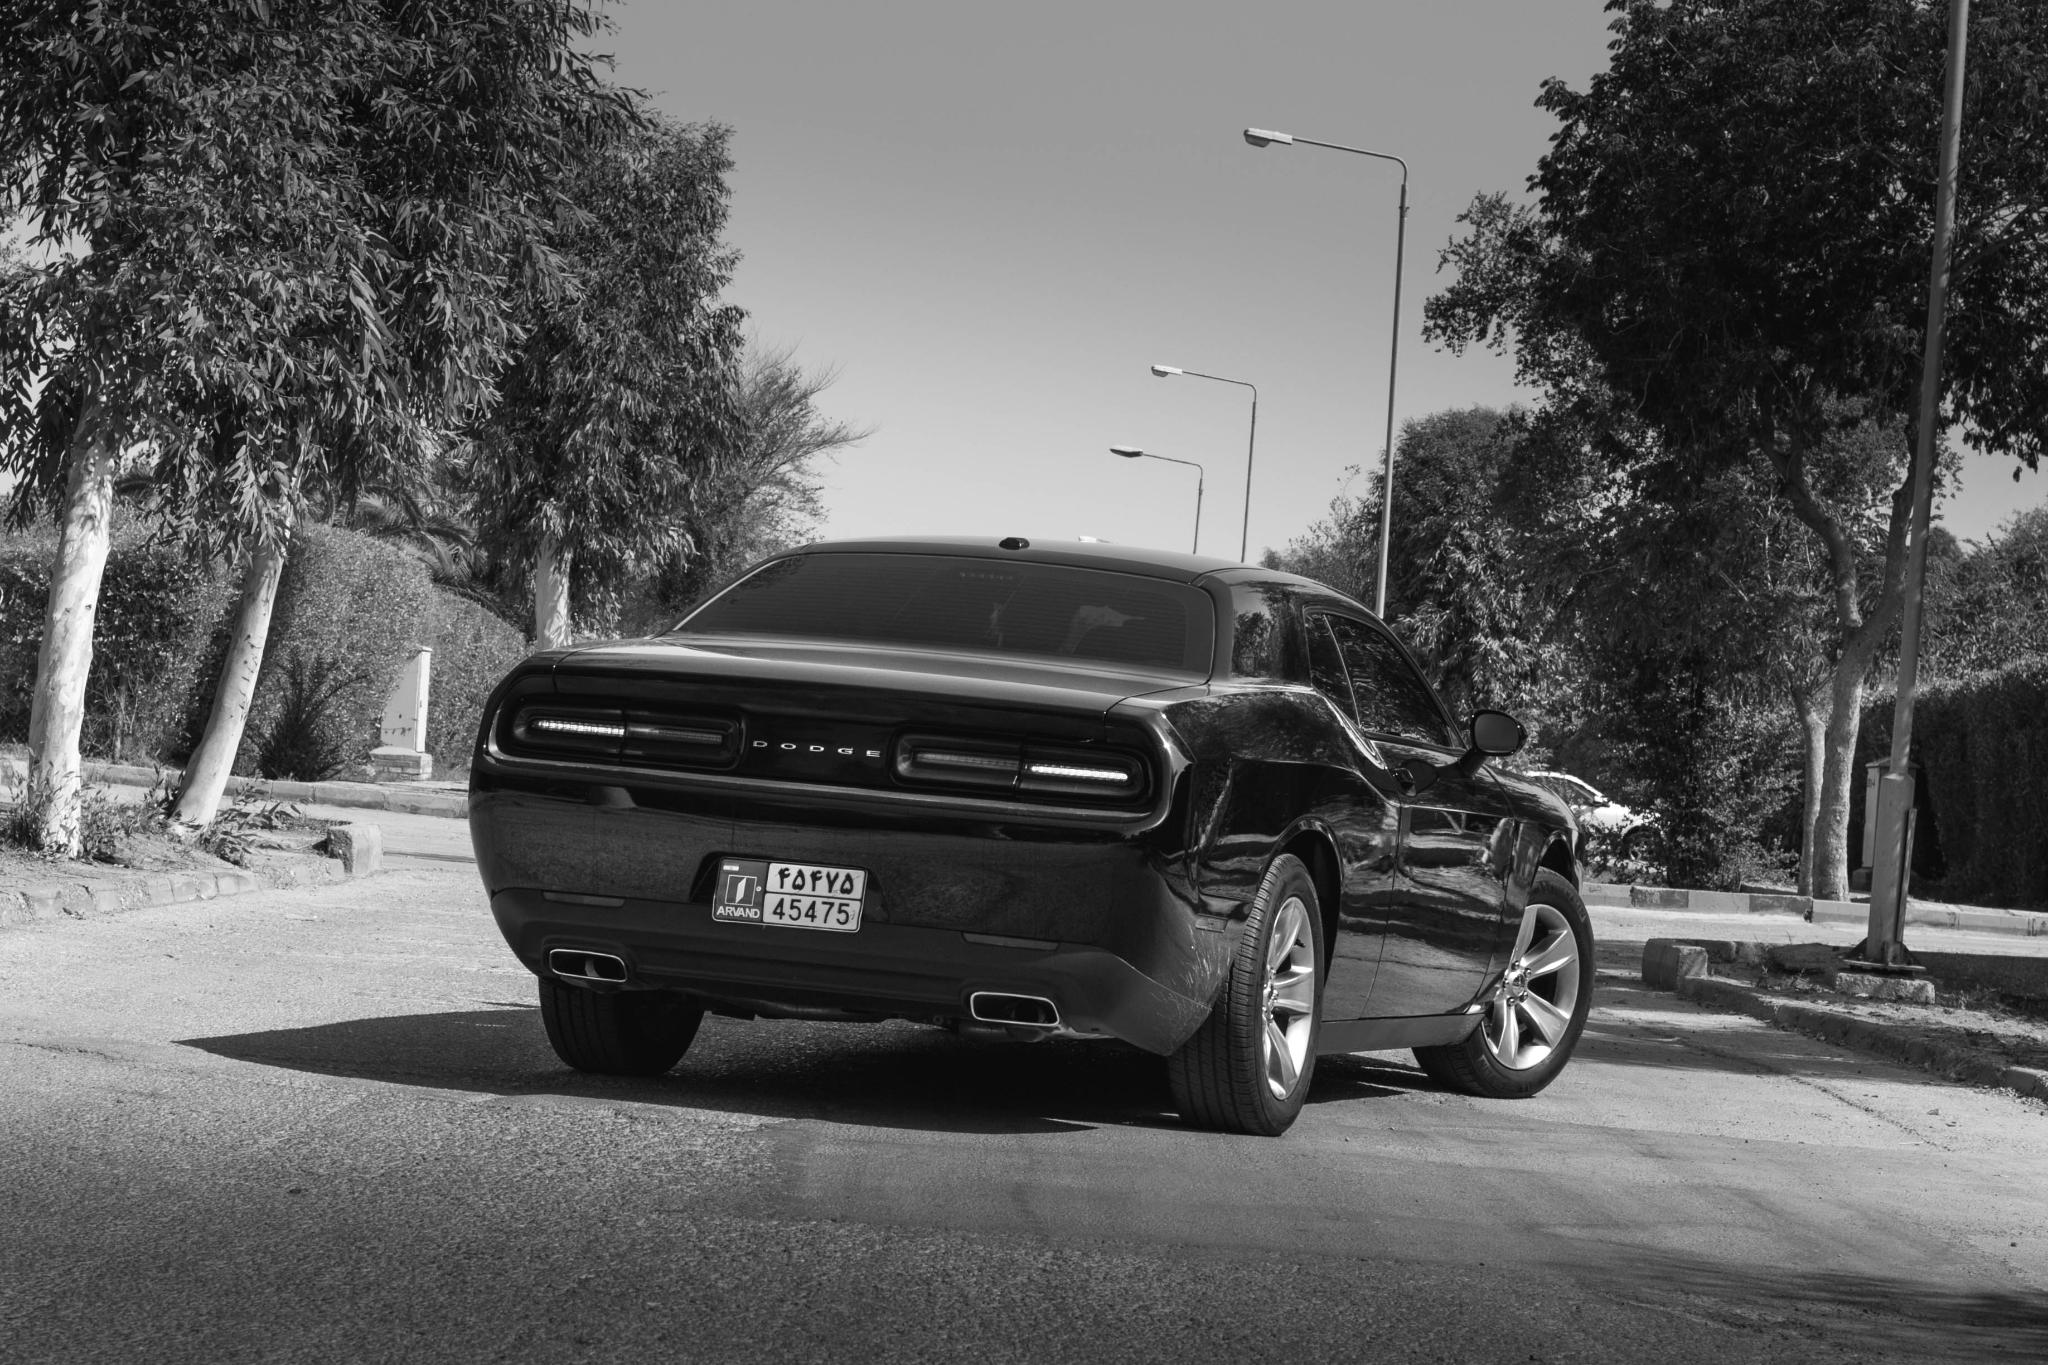dodge: (742, 722, 894, 775)
